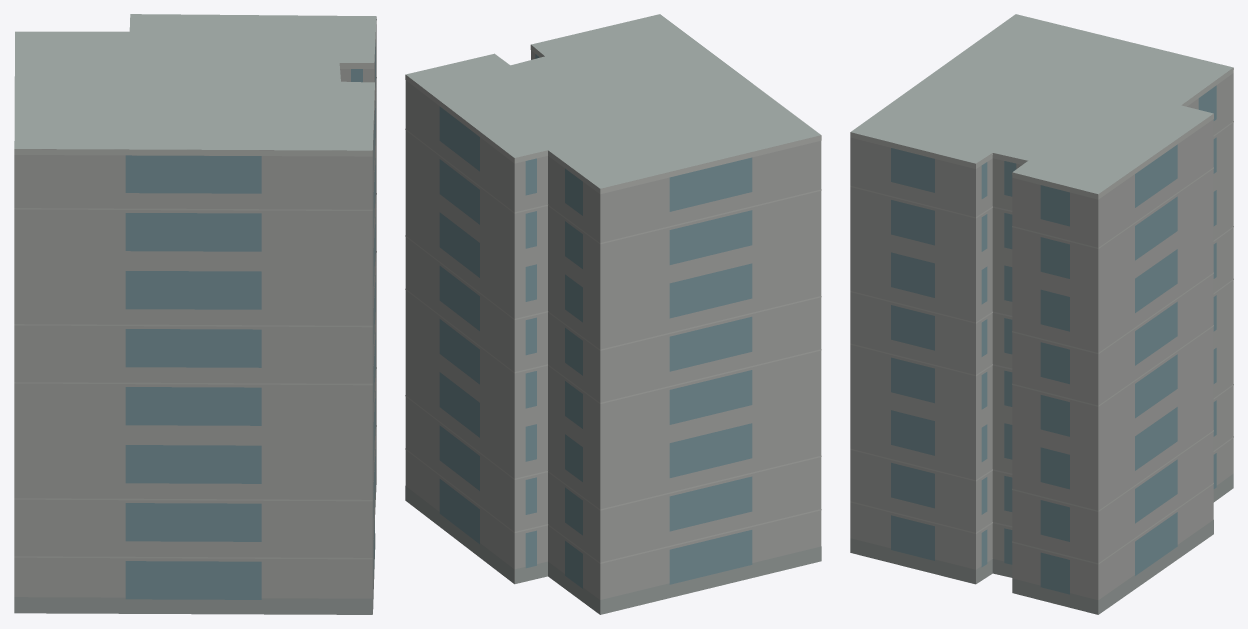
The model's file is survey-upis-32746021.glb.
The picture shows the model from 3 angles, left to right: view 1: azimuth 30°, elevation 25°; view 2: azimuth 150°, elevation 25°; view 3: azimuth 270°, elevation 25°; orthographic projection. The views are drawn at different scales.
Visible parts, largest first — view 1: survey-upis-32746021.tmp; view 2: survey-upis-32746021.tmp; view 3: survey-upis-32746021.tmp.
Part boxes in pixels (<box>): survey-upis-32746021.tmp: <box>14,14,376,614</box>; survey-upis-32746021.tmp: <box>405,14,821,614</box>; survey-upis-32746021.tmp: <box>850,14,1233,614</box>.
Size of the model in its own units: 17.39 by 18.9 by 15.63.
